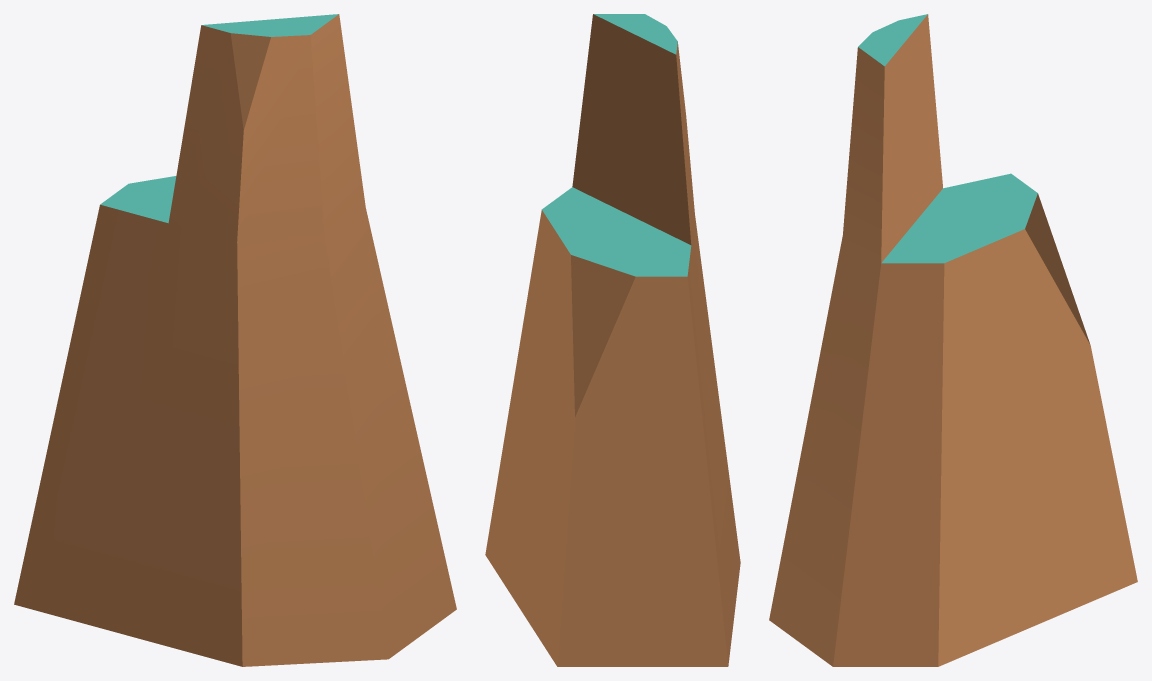
File: rock_tall4.obj
3 renders of one model, left to right at view 1: azimuth 30°, elevation 25°; view 2: azimuth 150°, elevation 25°; view 3: azimuth 270°, elevation 25°, orthographic. The views are drawn at different scales.
Parts seen in each view (by area): view 1: rock_tall4; view 2: rock_tall4; view 3: rock_tall4.
Boxes of the visible parts, box(x1,y1,x2,y2) form: rock_tall4: box(14, 14, 456, 666); rock_tall4: box(485, 14, 740, 666); rock_tall4: box(769, 14, 1137, 666).
Bounding box in the file's own units: 4.43 × 7.72 × 4.61.
